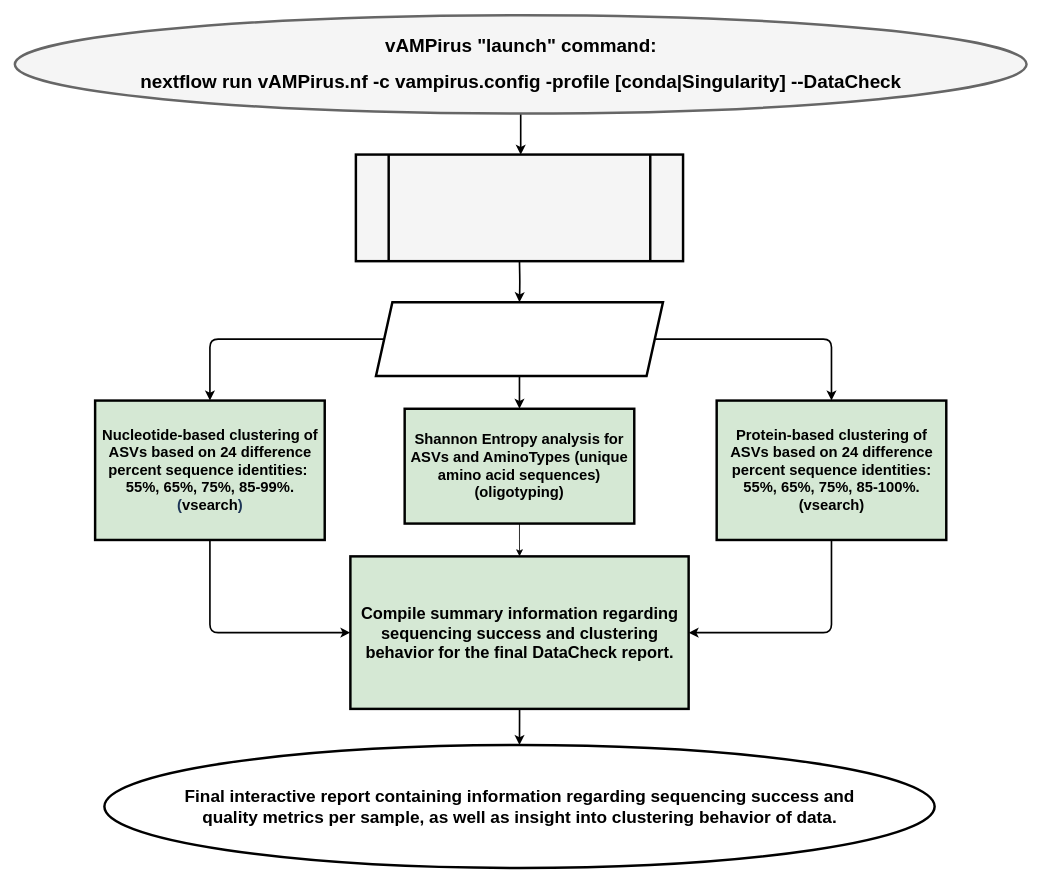
Image size: 1042x883. Some labels were removed from this diagram. Each missing label, with the centre of its shape:
Amplicon Sequence Variants (ASVs): point 519,339
Read Processing: point 519,207
